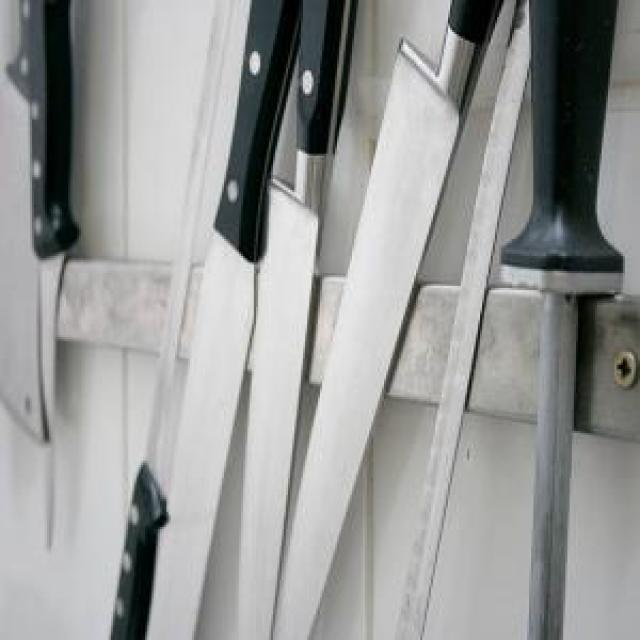knife: (307, 35, 466, 640), (241, 0, 356, 638), (147, 0, 224, 638)
